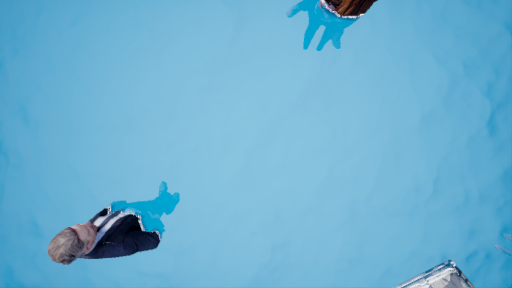person: (48, 184, 193, 265)
